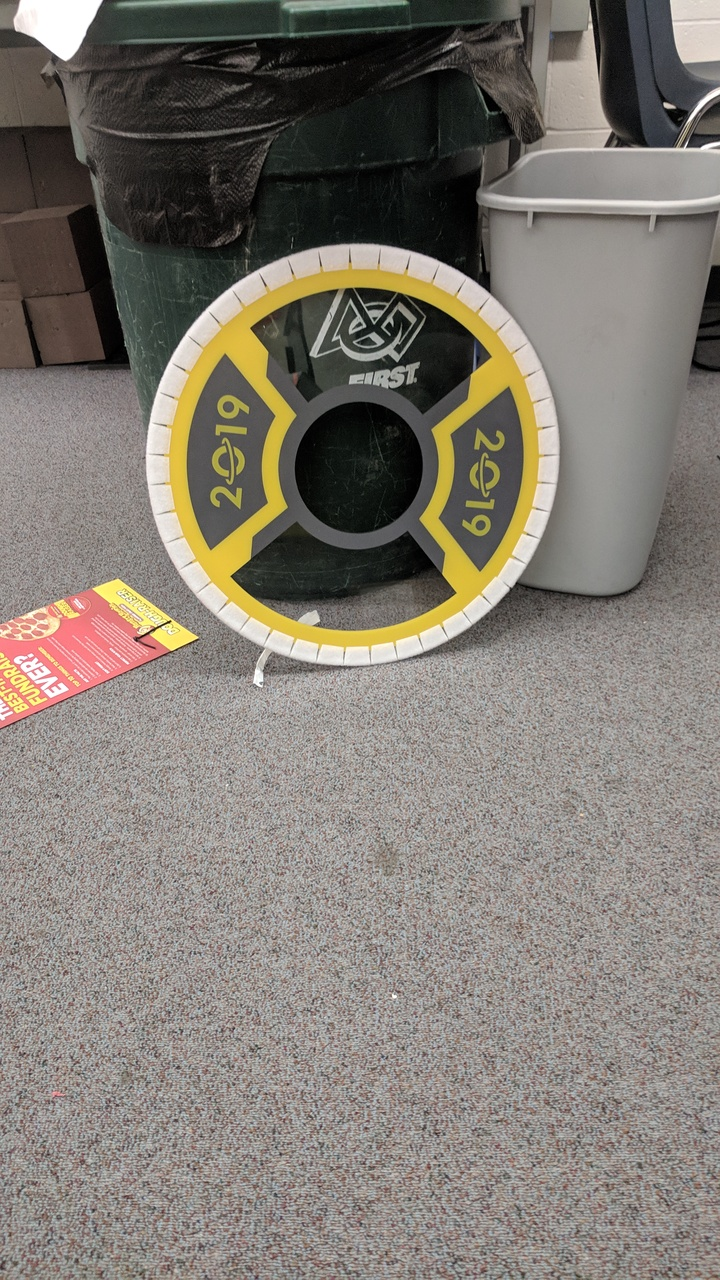hatch_panel: (146, 241, 559, 701)
